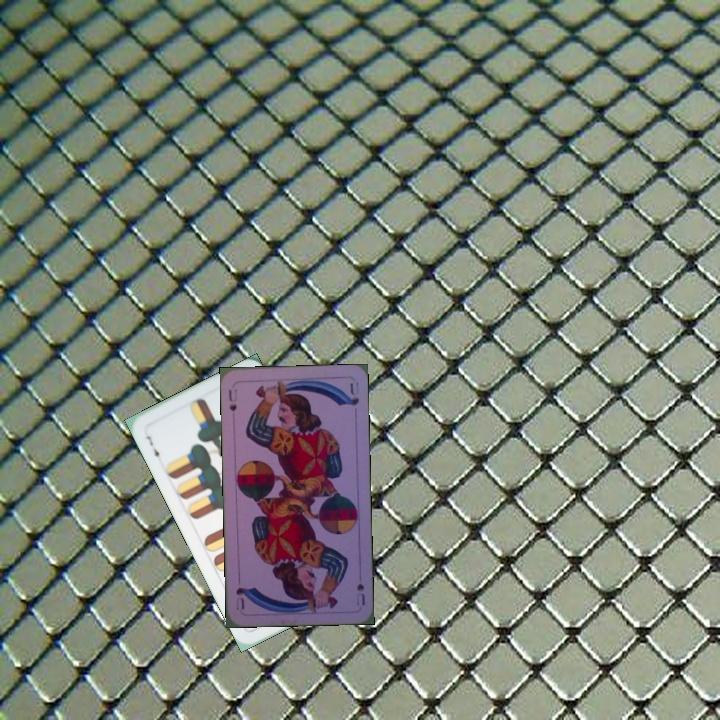E7: (142, 432, 162, 464)
SU: (352, 579, 368, 608), (224, 385, 240, 413)
